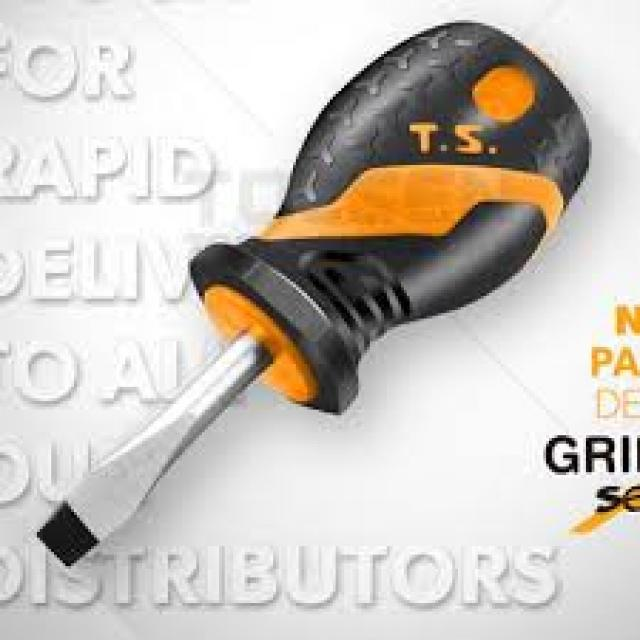screwdriver: (33, 17, 596, 569)
